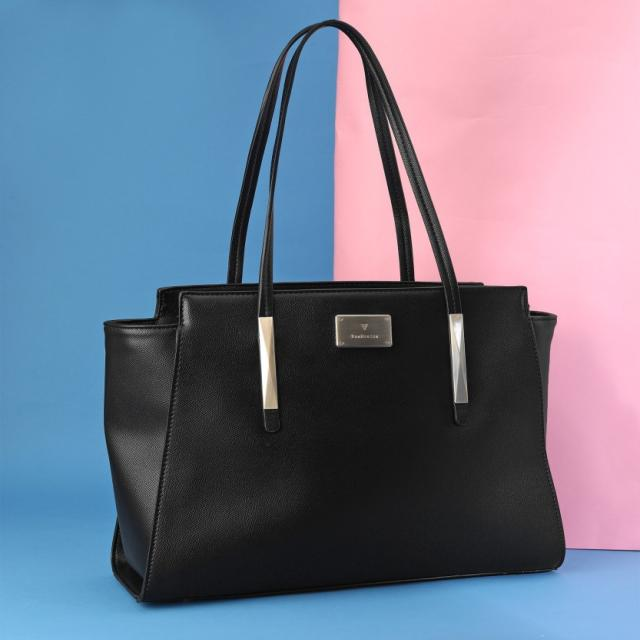handbag: (102, 19, 567, 604)
